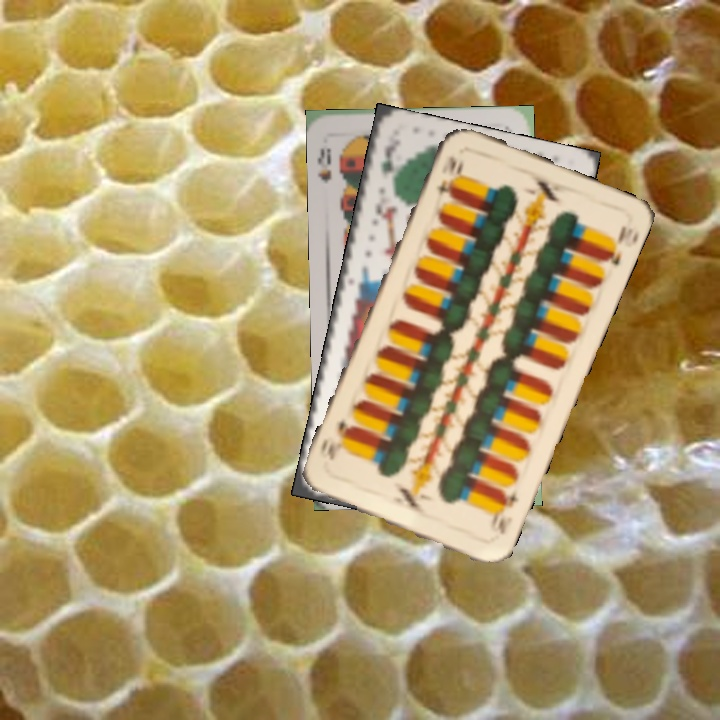E10: (486, 487, 522, 537), (434, 152, 459, 199)
GK: (376, 149, 397, 189)
S8: (313, 144, 334, 186)
